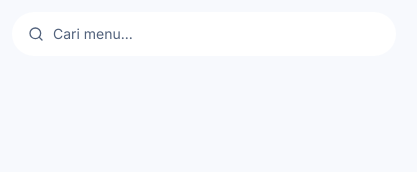
Test: AdminSearch › says so when nothing matches
Type "zzz" into the search field labelled "Cari menu".
click(204, 34); type("zzz")  # box [12, 12, 396, 56]
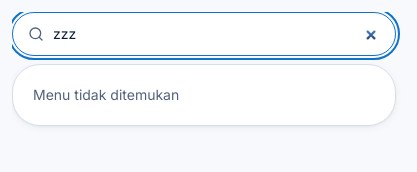
Now the text "Menu tidak ditemukan" is shown, box [33, 86, 179, 103]
